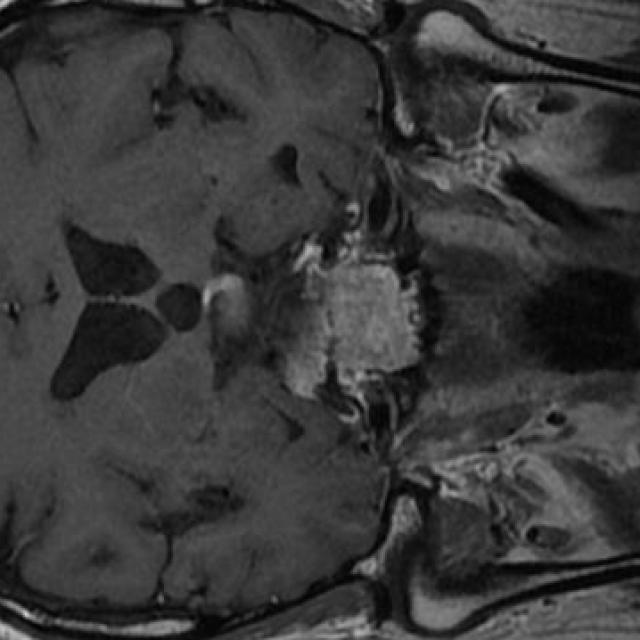pituitary: (203, 234, 335, 401)
